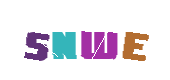E: (89, 0, 169, 80)
N: (36, 0, 116, 80)
S: (24, 0, 104, 80)
W: (45, 0, 125, 80)
